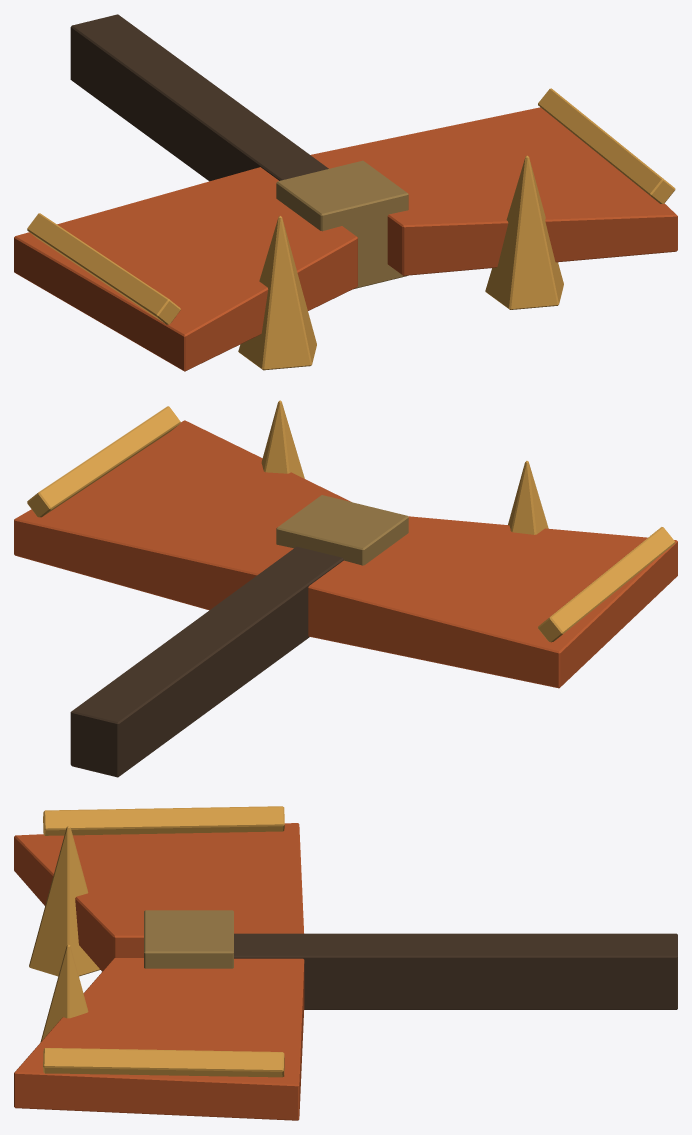
File: guardian_fire.glb
3 views of the same model, one above another, from view 1: azimuth 30°, elevation 25°; view 2: azimuth 150°, elevation 25°; view 3: azimuth 270°, elevation 25° (orthographic).
Visible parts, largest first — view 1: weapon.013; view 2: weapon.013; view 3: weapon.013.
Boxes of the visible parts, left/top/right/bottom form: weapon.013: left=14, top=14, right=677, bottom=371; weapon.013: left=14, top=400, right=677, bottom=777; weapon.013: left=14, top=806, right=677, bottom=1120.
Size of the model in its own units: 1.24 by 0.3 by 1.32.
